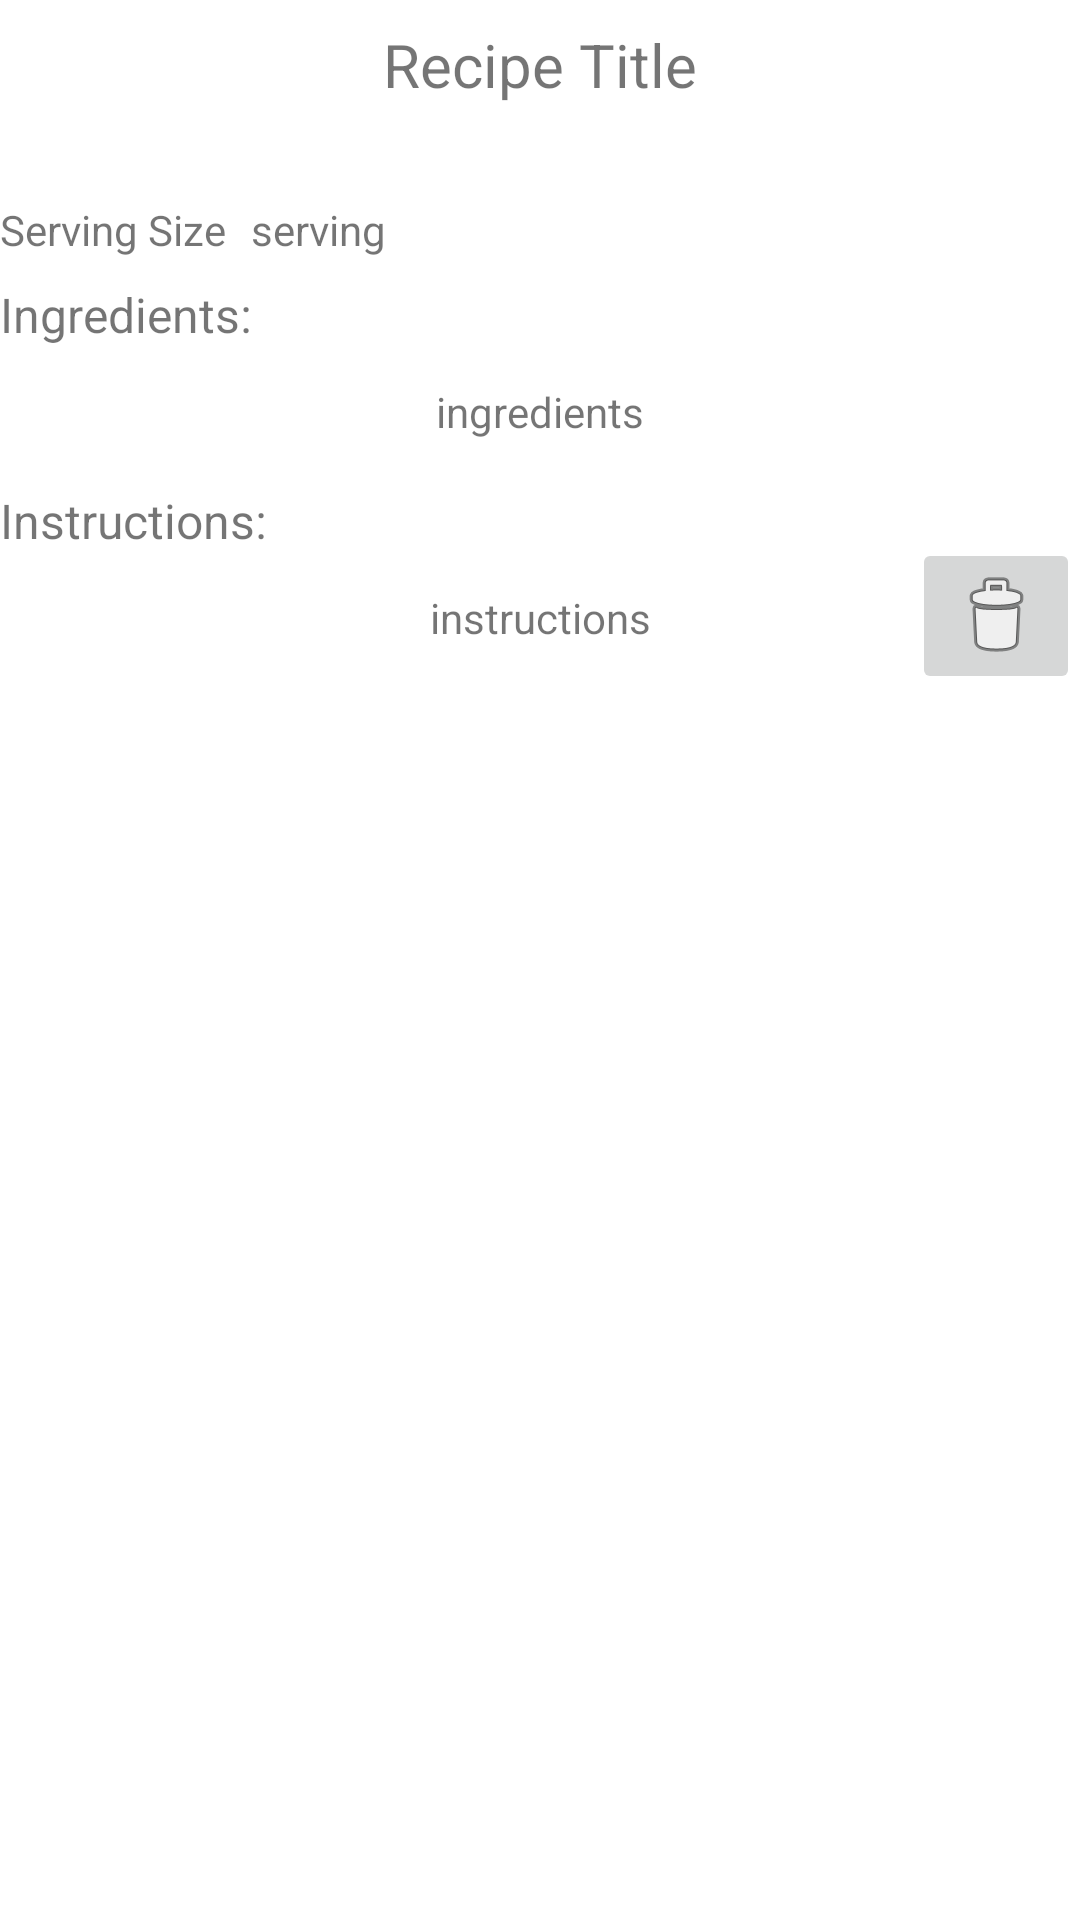

Screen size 1080 x 1920. Icon name, then its box in pixels as BBox(x1, y1, x2, y2):
delete: BBox(924, 556, 1068, 676)
